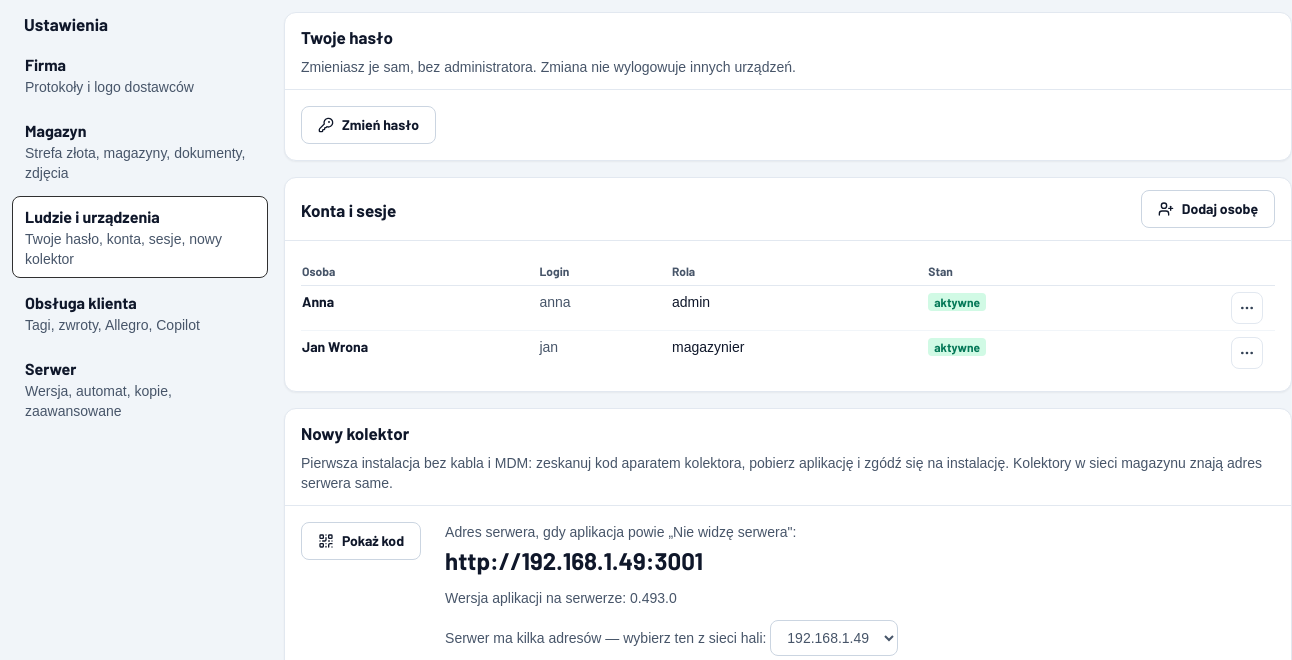
Ustawienia w panelu › admin: wyloguj wszędzie pyta, a potem idzie BEZ ciała i bez typu treści
Expected: the text "Jan Wrona" is shown, [301,330,538,375]
Click the button named "Czynności konta Jan Wrona" at (1247, 353), box [1231,337,1263,369]
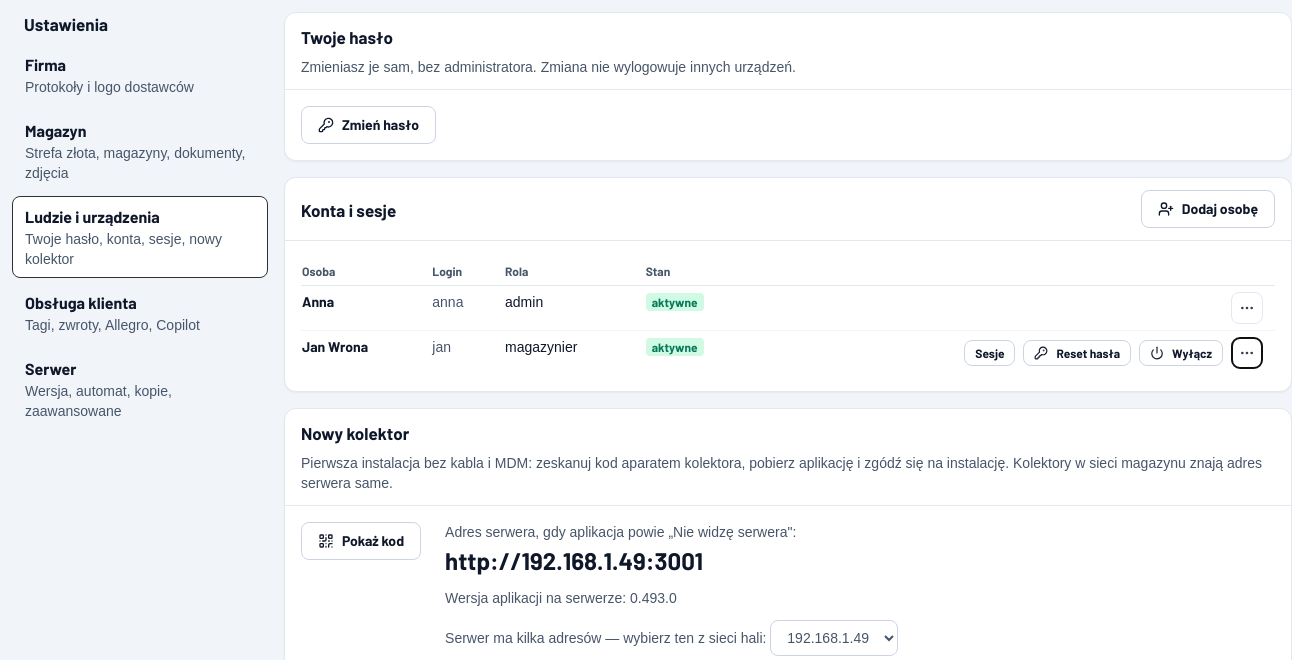
Click the button "Sesje" at (990, 353), box [964,340,1016,366]
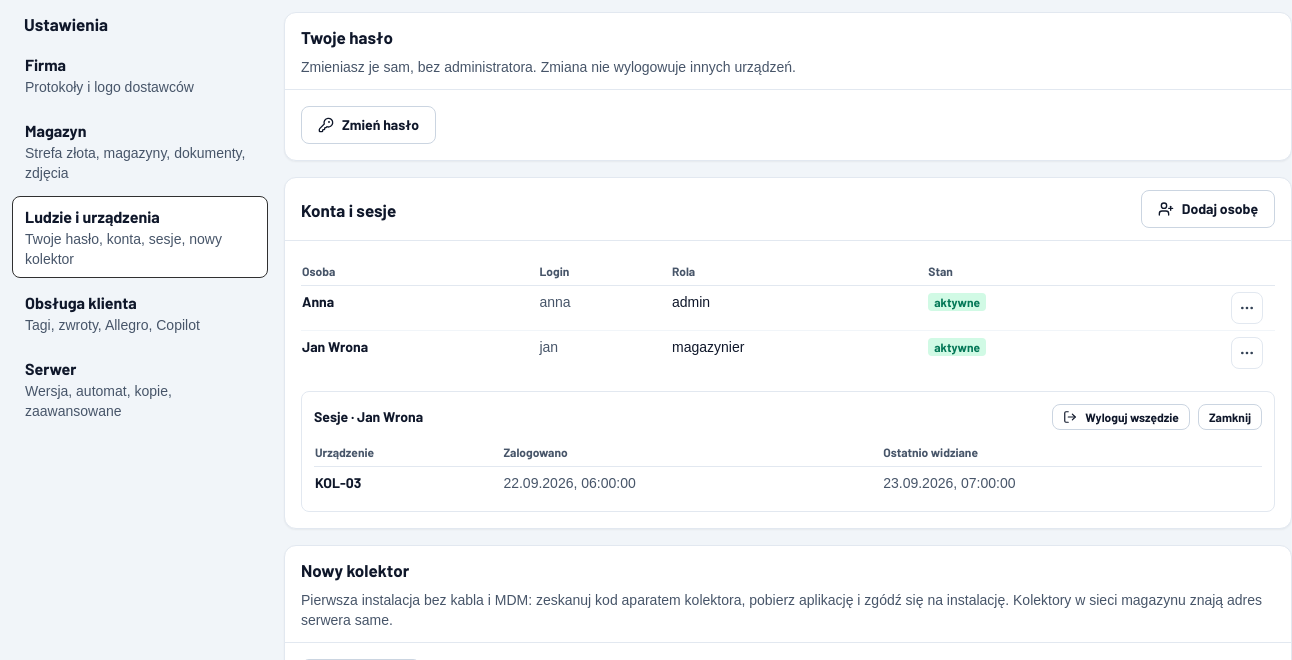
Result: the text "KOL-03" is shown at [314,466,502,499]
Click the button "Wyloguj wszędzie" at (1121, 417), box [1052,404,1190,430]
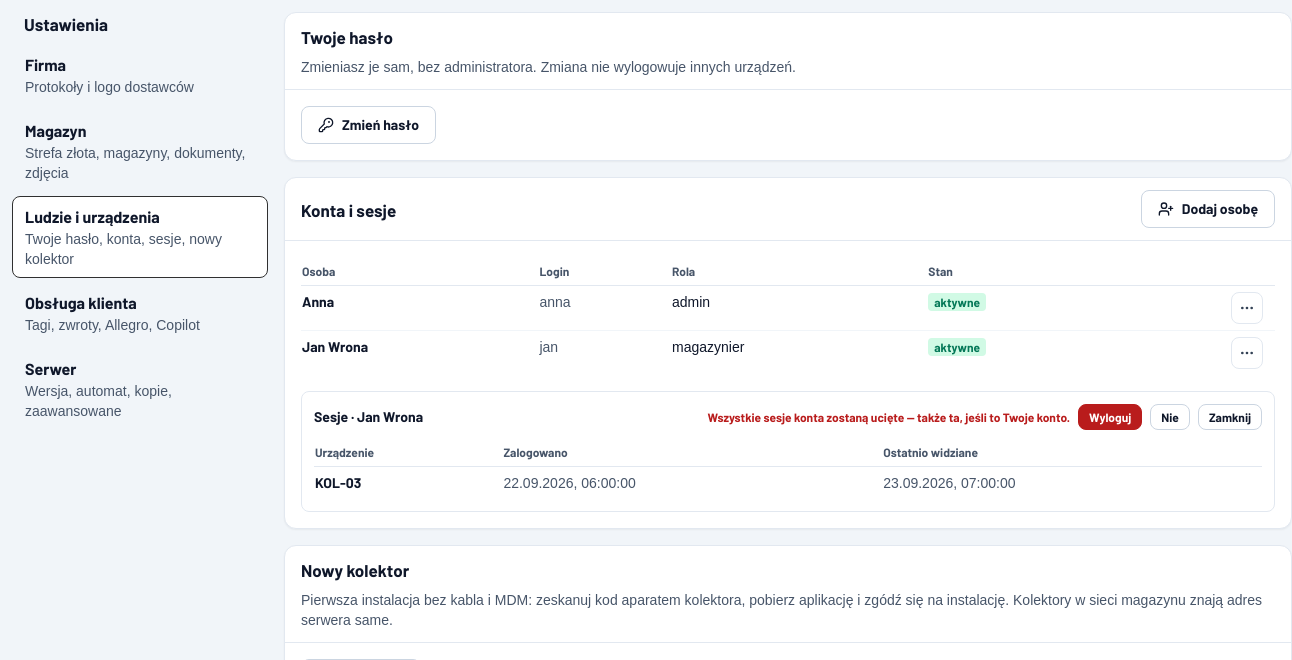
Click the button "Wyloguj" at (1110, 417), box [1078,404,1142,430]
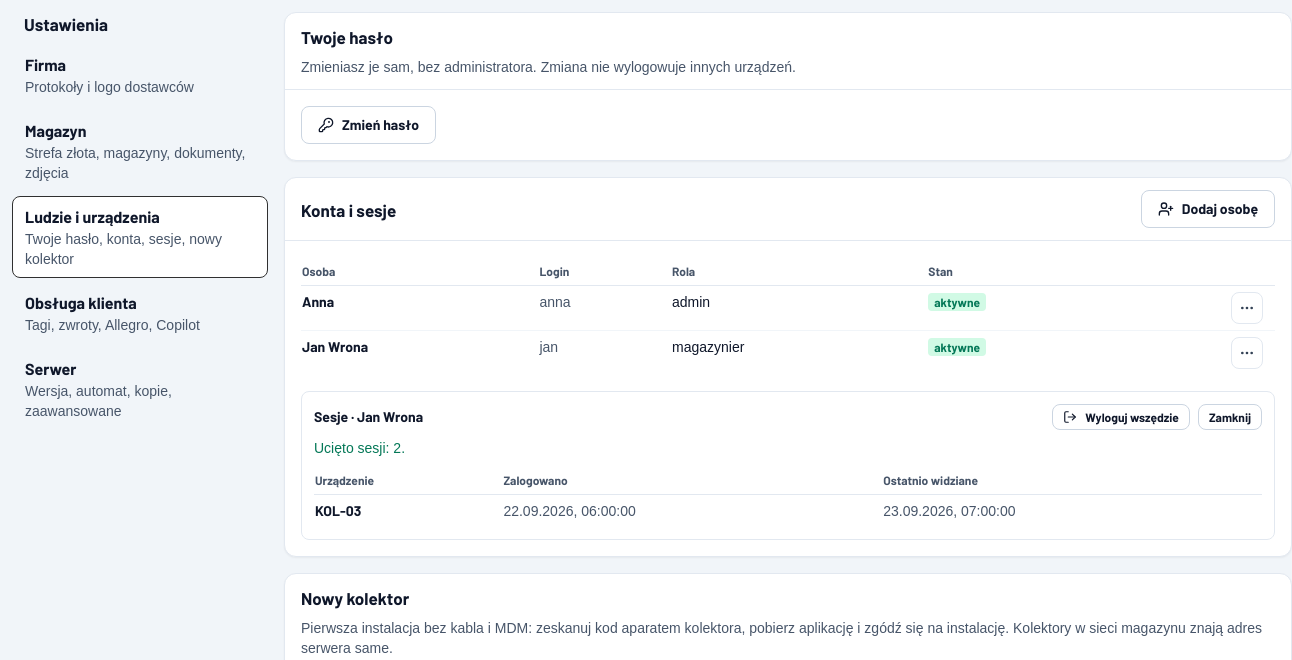
Result: the text "Ucięto sesji: 2." is shown at [314,440,405,456]
